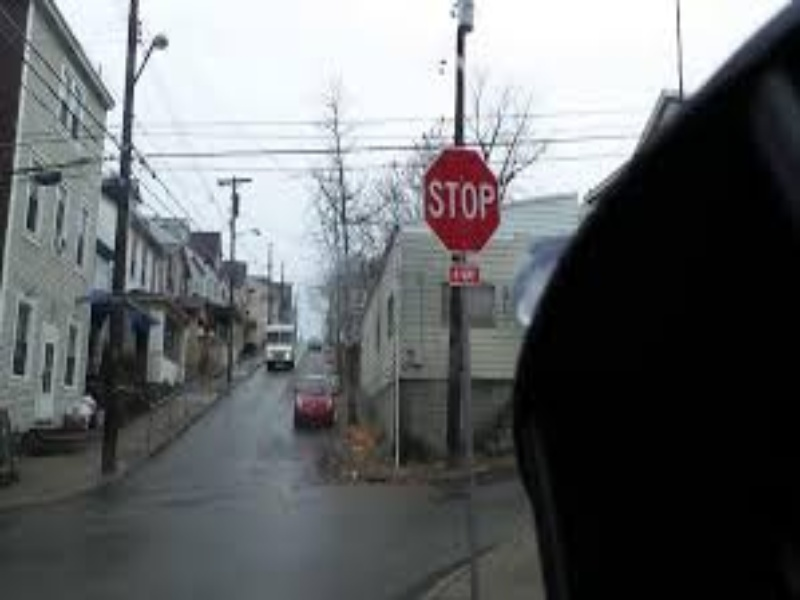stop sign: (417, 145, 504, 257)
